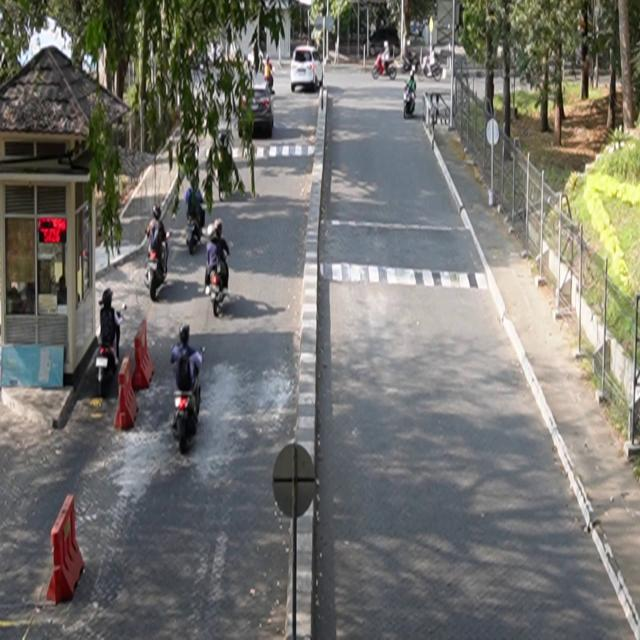car: (239, 72, 276, 139), (291, 46, 325, 93)
